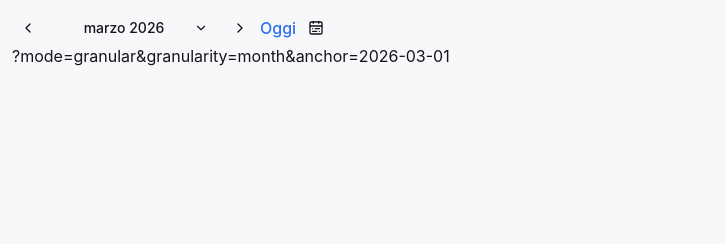
Test: PeriodNavigator › apre il pannello dell'intervallo personalizzato e lo applica
Click the button named "Intervallo personalizzato": (316, 28) [300,12,332,44]
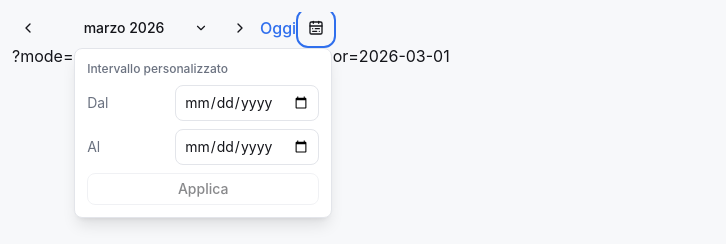
Expected: the date field labelled "Dal" is shown
In the date field labelled "Dal": (247, 103) [175,85,319,121], type "2026-01-01"
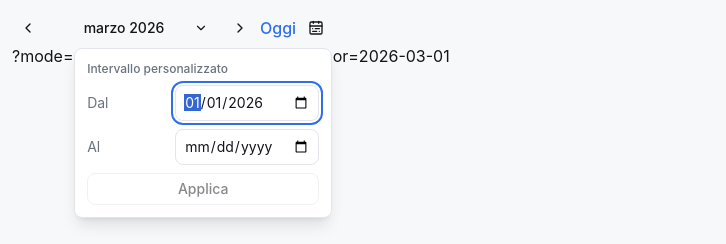
In the date field labelled "Al": (247, 147) [175,129,319,165], type "2026-01-31"
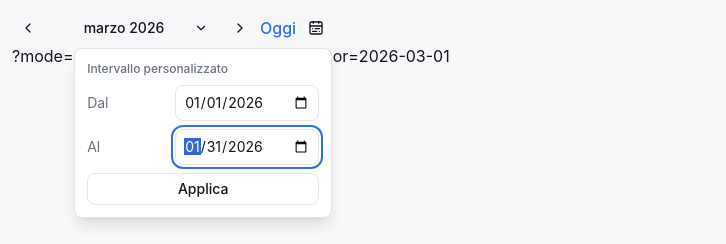
Click the button "Applica": (203, 189) [87,173,319,205]
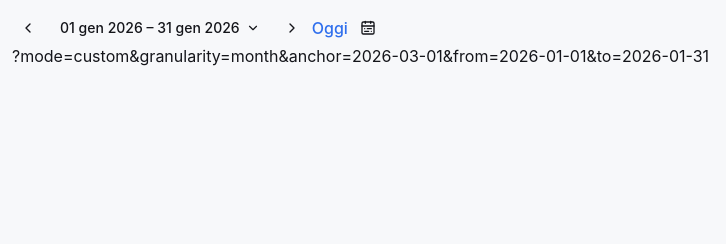
Expected: the text with test id "location" shows "mode=custom", [12,46,709,66]
Expected: the text with test id "location" shows "from=2026-01-01", [12,46,709,66]
Expected: the text with test id "location" shows "to=2026-01-31", [12,46,709,66]
